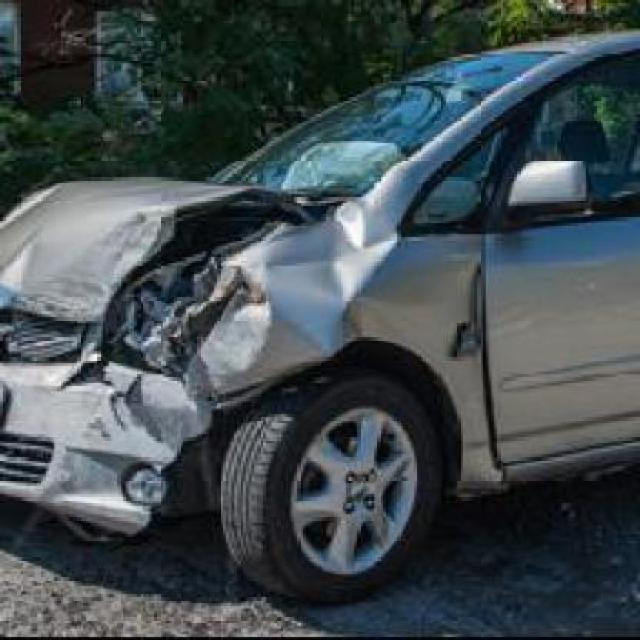damaged-front-bumper: (0, 358, 205, 539)
damaged-hood: (0, 169, 325, 325)
